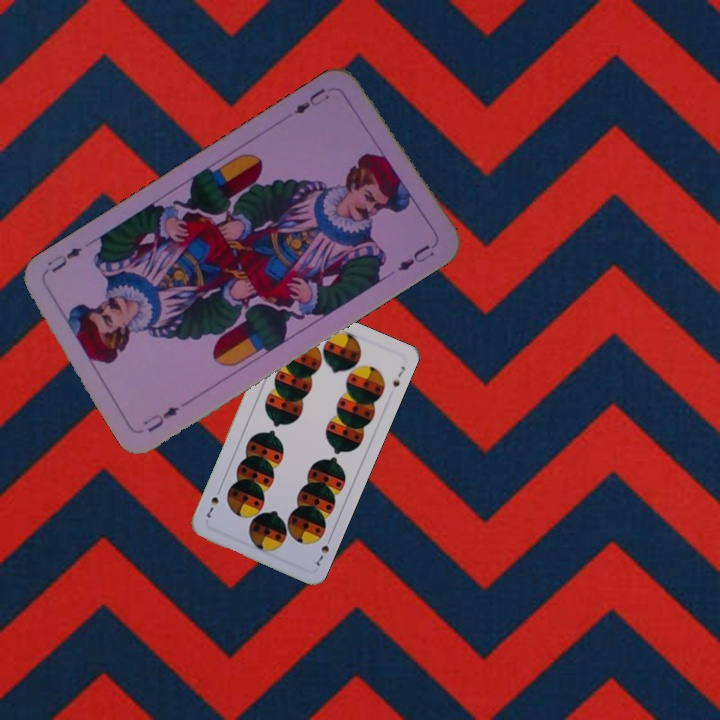EU: (289, 84, 332, 117), (139, 402, 182, 435)
S7: (312, 532, 335, 569)
